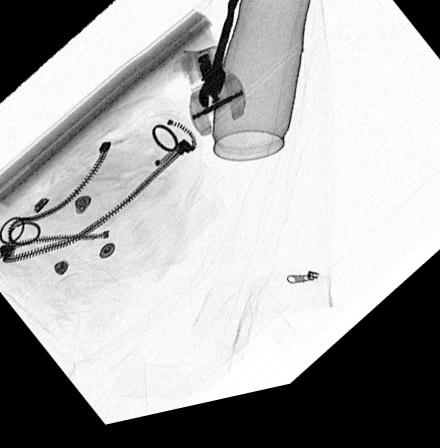Wrench: (197, 0, 243, 119)
